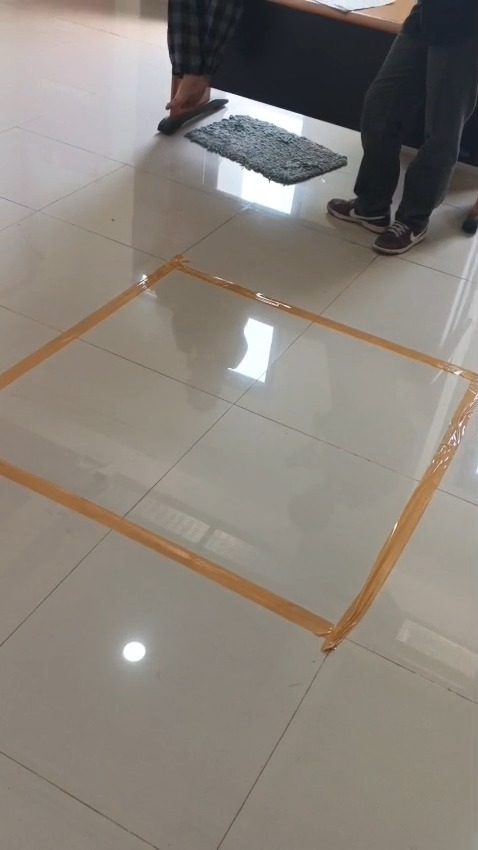floor marking: (1, 255, 477, 651)
